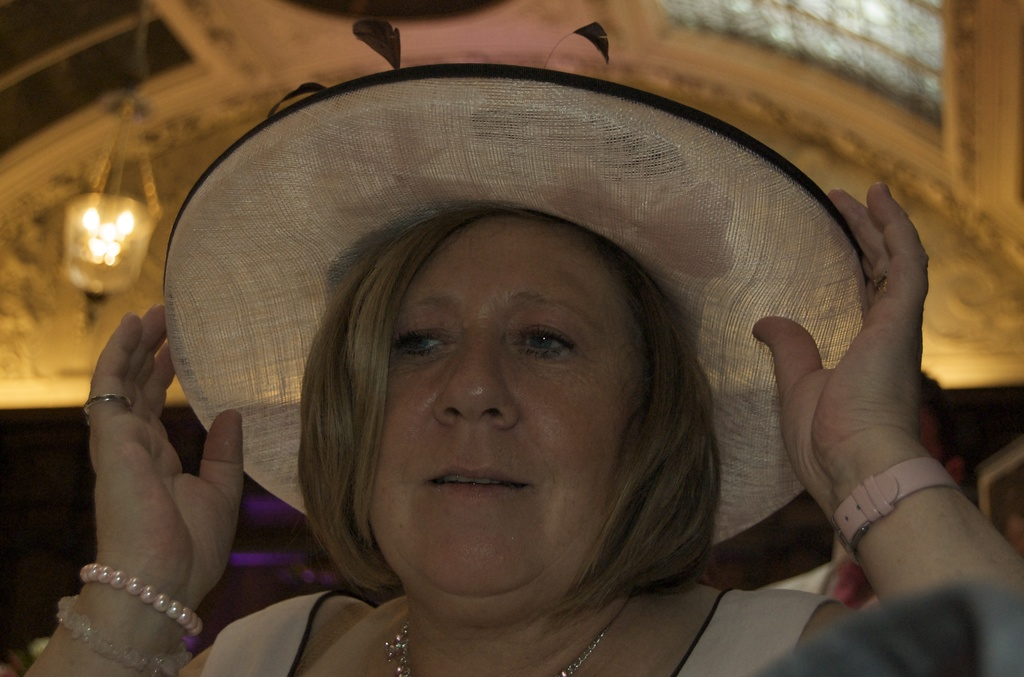Human-face: (357, 215, 633, 628)
